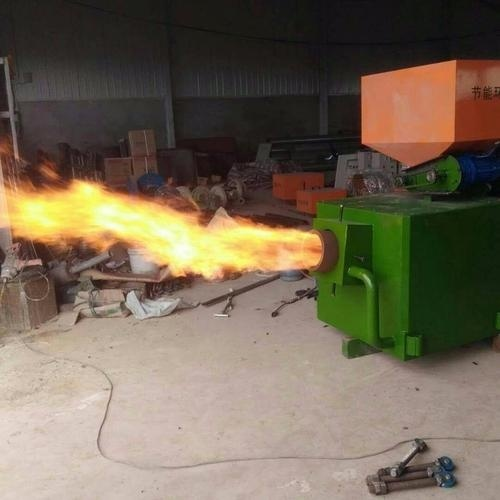fire: (5, 154, 323, 282)
